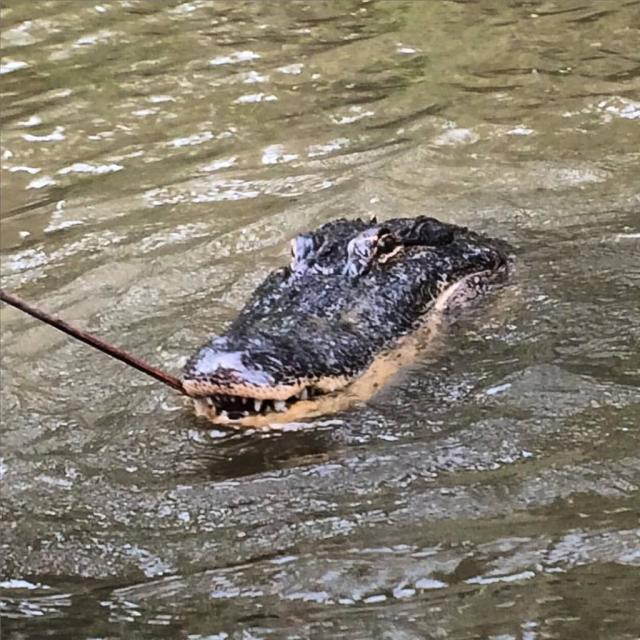crocodile: (149, 195, 571, 479)
